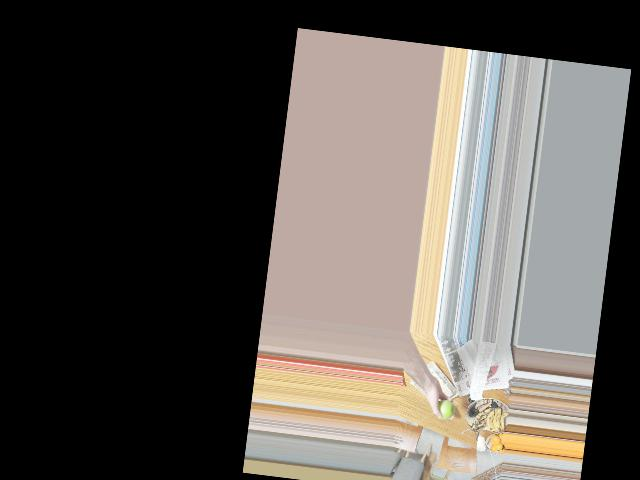apple: (433, 395, 455, 421)
